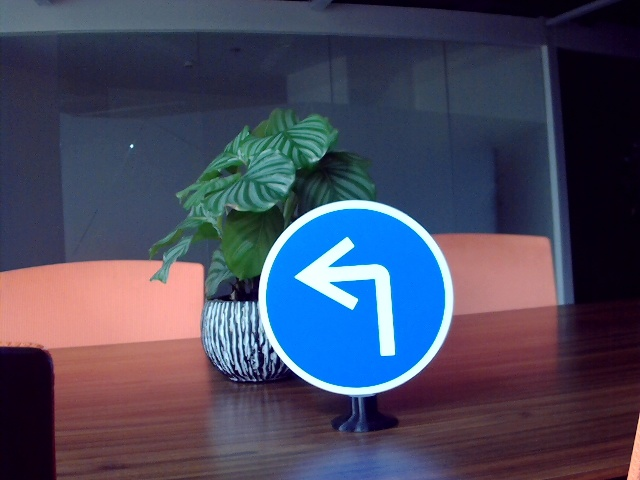turn_left: (296, 234, 403, 360)
